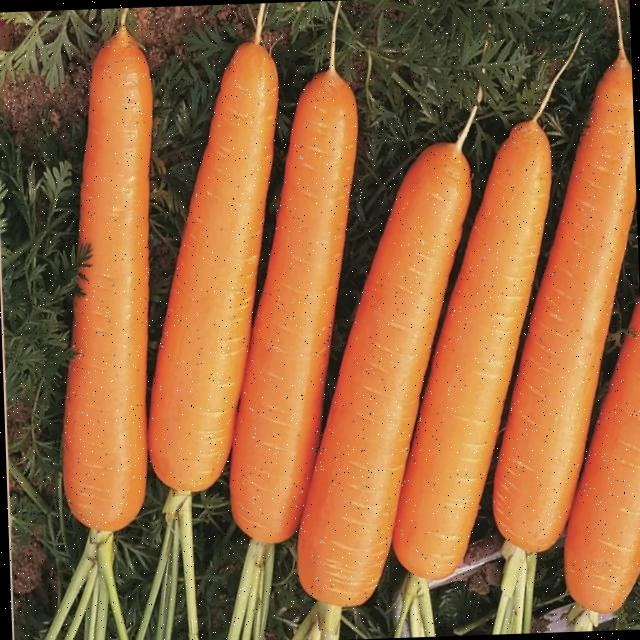carrot: (297, 142, 469, 605), (491, 16, 636, 551), (391, 119, 550, 579), (228, 20, 356, 542), (146, 4, 277, 490), (61, 24, 151, 530), (564, 296, 640, 612)
